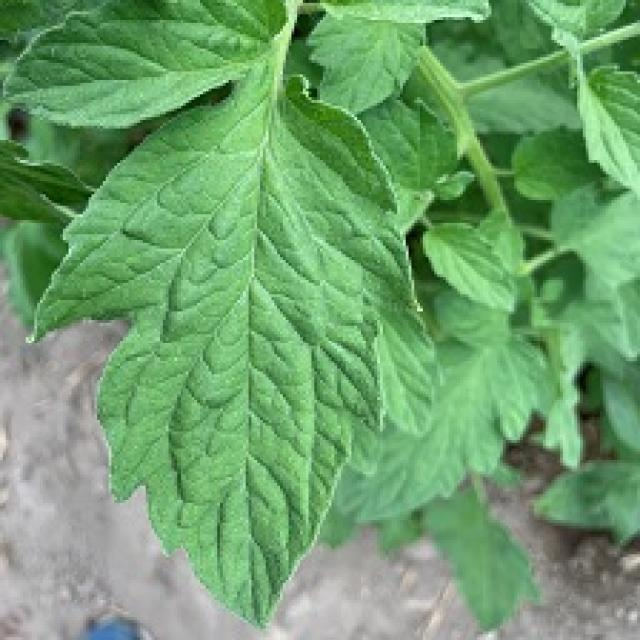Healthy: (0, 0, 449, 640)
